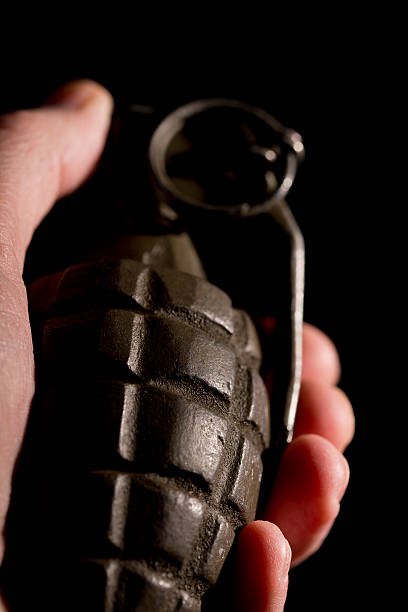e1: (7, 94, 307, 612)
